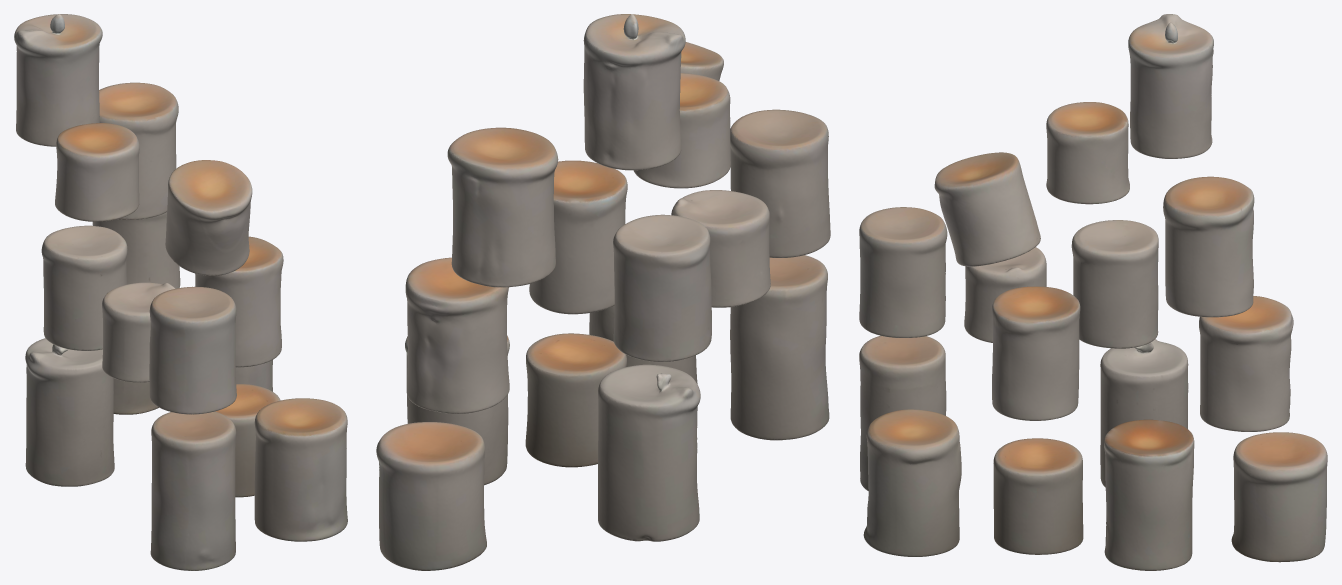
Rendered from detailed_realistic_model_floatingcandles_02.glb.
3 renders of one model, left to right at view 1: azimuth 30°, elevation 25°; view 2: azimuth 150°, elevation 25°; view 3: azimuth 270°, elevation 25°, orthographic. The views are drawn at different scales.
Visible parts, largest first — view 1: tripo_node_a6f4cec9-fbcd-438b-8fa9-41c3cc8c2ec0; view 2: tripo_node_a6f4cec9-fbcd-438b-8fa9-41c3cc8c2ec0; view 3: tripo_node_a6f4cec9-fbcd-438b-8fa9-41c3cc8c2ec0.
Part boxes in pixels (x1,y1,x2,y2): tripo_node_a6f4cec9-fbcd-438b-8fa9-41c3cc8c2ec0: [14, 14, 347, 570]; tripo_node_a6f4cec9-fbcd-438b-8fa9-41c3cc8c2ec0: [376, 14, 830, 570]; tripo_node_a6f4cec9-fbcd-438b-8fa9-41c3cc8c2ec0: [859, 14, 1327, 570].
Bounding box in the file's own units: 0.5568 × 1 × 0.9159.
1 material, 1 textured.
